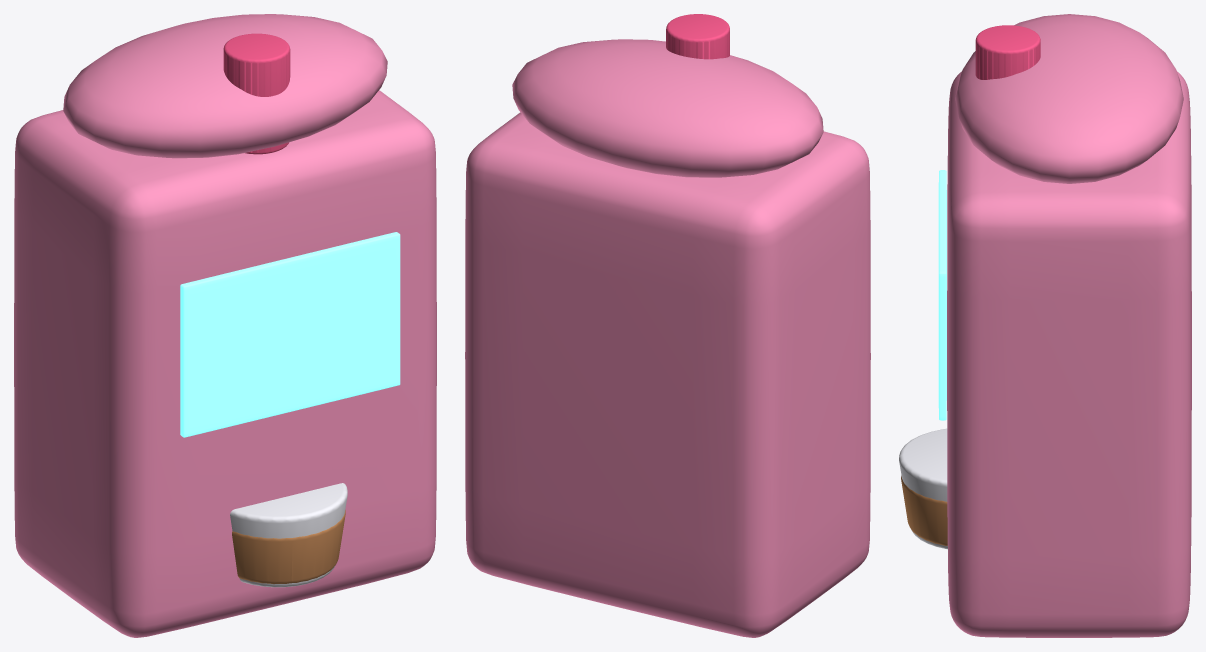
Rendered from MilkTeaMachine.glb.
3 renders of one model, left to right at view 1: azimuth 30°, elevation 25°; view 2: azimuth 150°, elevation 25°; view 3: azimuth 270°, elevation 25°, orthographic. The views are drawn at different scales.
Parts seen in each view (by area): view 1: Cube, Cube.001, Sphere, Cone.001, Cone, Cylinder; view 2: Cube, Sphere, Cylinder; view 3: Cube, Sphere, Cylinder, Cone, Cube.001, Cone.001.
Boxes of the visible parts, box(x1,y1,x2,y2) form: Cube: box(14, 90, 436, 637); Cube.001: box(180, 232, 400, 437); Sphere: box(63, 14, 387, 158); Cone.001: box(232, 510, 345, 584); Cone: box(230, 483, 347, 587); Cylinder: box(223, 33, 290, 154); Cube: box(465, 112, 870, 637); Sphere: box(512, 39, 823, 177); Cylinder: box(666, 14, 729, 59); Cube: box(947, 71, 1191, 637); Sphere: box(955, 14, 1183, 183); Cylinder: box(975, 25, 1040, 79); Cone: box(899, 428, 947, 549); Cube.001: box(938, 170, 946, 420); Cone.001: box(901, 476, 947, 545).
Size of the model in its own units: 0.8993 by 1.44 by 0.7167.
